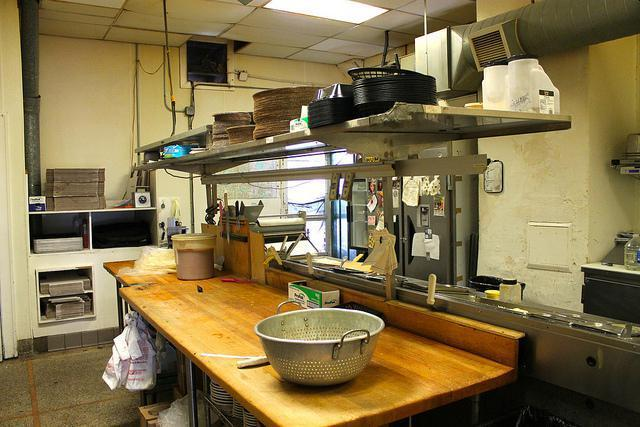bottle: (624, 233, 640, 272), (499, 278, 522, 304), (83, 219, 88, 248)
bowl: (252, 300, 384, 388)
knife: (223, 192, 230, 244), (236, 200, 240, 218)
oven: (392, 275, 640, 427)
refrigerator: (392, 176, 454, 286)
